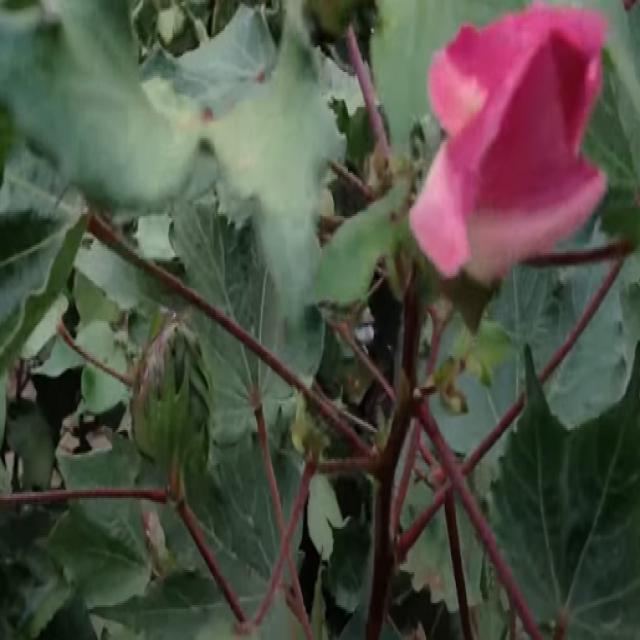Cotton Blossom: (408, 3, 610, 320)
